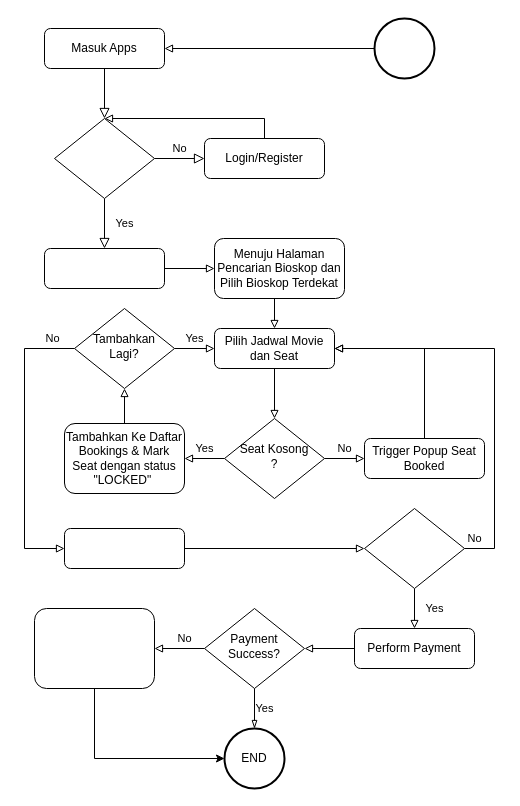
Image size: 520x806. Some labels were removed from this diagram. Here are the shapes that lost their labels. From the top down, the centre of each, then its label:
point (404, 48): START
point (104, 158): Access Token ?
point (104, 268): Halaman Dashboard
point (124, 548): Review Bookings
point (414, 548): Sesuai?
point (94, 648): Release seat yang ditandai, set payment status menjadi "FAILED",
